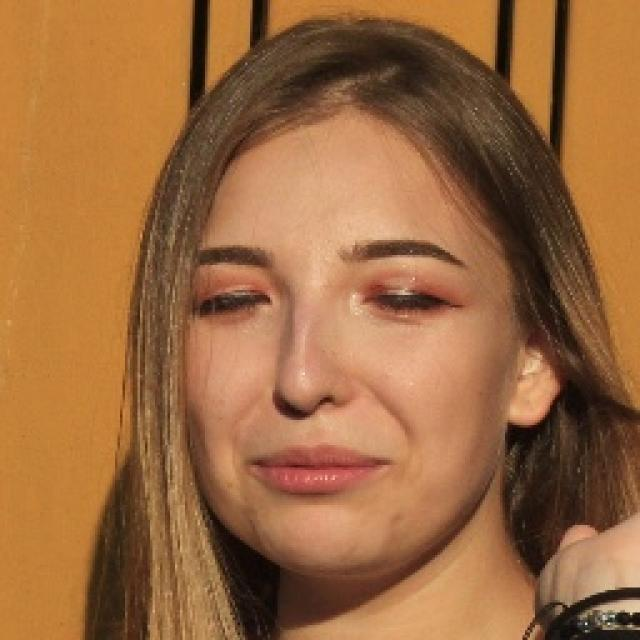earlobe: (499, 384, 555, 429)
eye: (361, 279, 463, 324), (193, 283, 272, 318)
nose: (270, 398, 360, 440)
wholeear: (507, 281, 575, 429)
